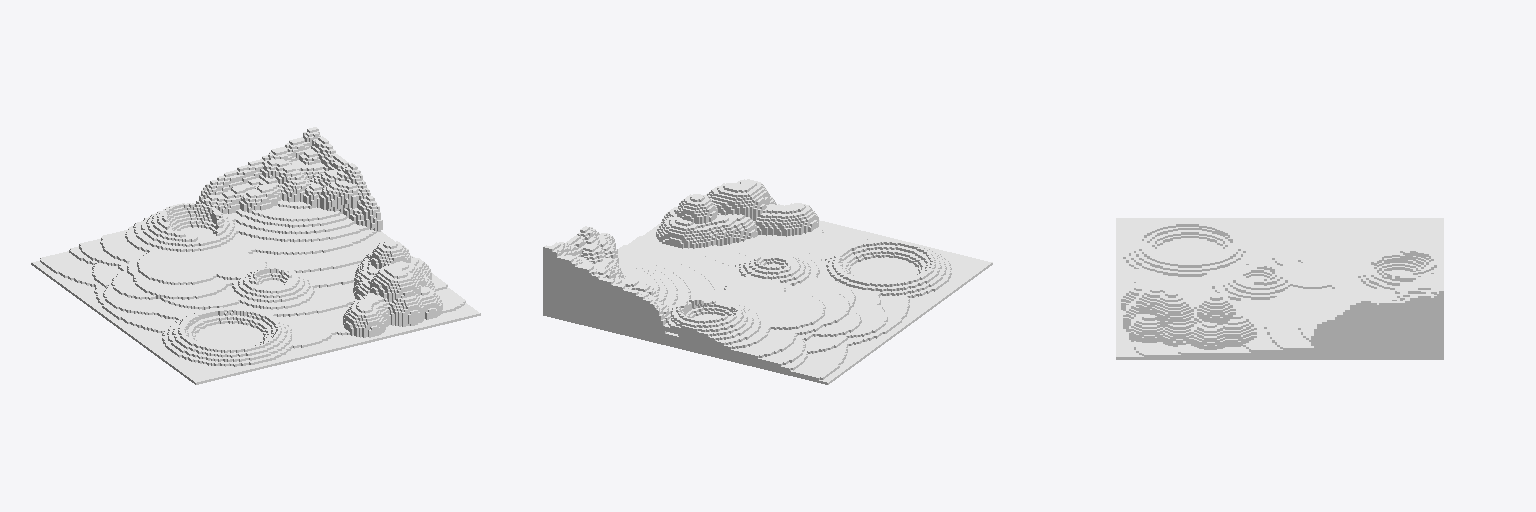
The model's file is LunarBorder2.obj.
The picture shows the model from 3 angles: view 1: azimuth 30°, elevation 25°; view 2: azimuth 150°, elevation 25°; view 3: azimuth 270°, elevation 25°; orthographic projection.
Size of the model in its own units: 126 by 29 by 126.